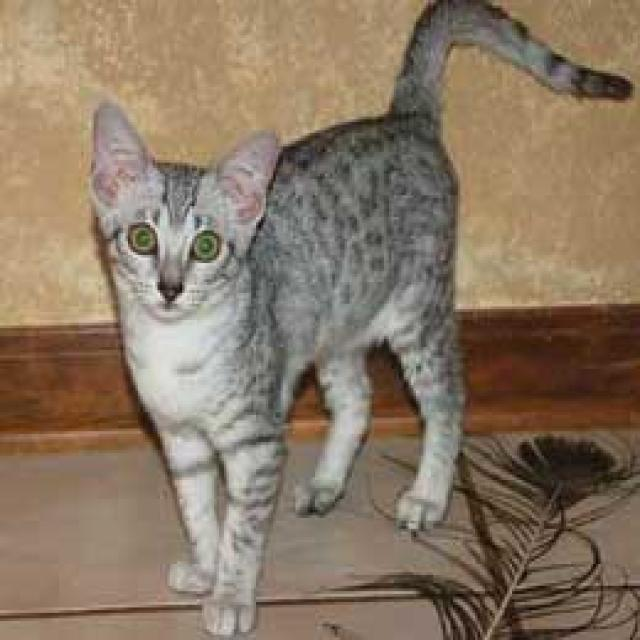Egyptian_Mau: (83, 93, 284, 356)
